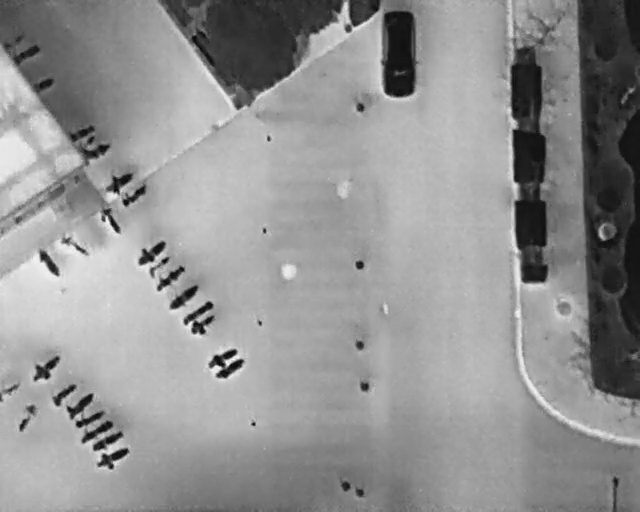Bicycle: (25, 348, 67, 388), (92, 442, 134, 477), (151, 260, 191, 296), (163, 279, 203, 315), (99, 166, 139, 200), (132, 235, 170, 270), (202, 340, 240, 374), (57, 229, 94, 263), (75, 417, 116, 447), (186, 307, 222, 341), (212, 351, 249, 384), (32, 243, 65, 280), (62, 388, 98, 421), (116, 180, 152, 211), (179, 298, 215, 329), (88, 428, 126, 456), (48, 378, 81, 408), (97, 204, 125, 239), (79, 138, 114, 163), (144, 251, 175, 279), (14, 400, 40, 433), (65, 120, 99, 145), (73, 407, 109, 430), (10, 42, 42, 66), (28, 74, 57, 96), (77, 131, 101, 157), (0, 383, 21, 396)
Car: (379, 10, 419, 97)
